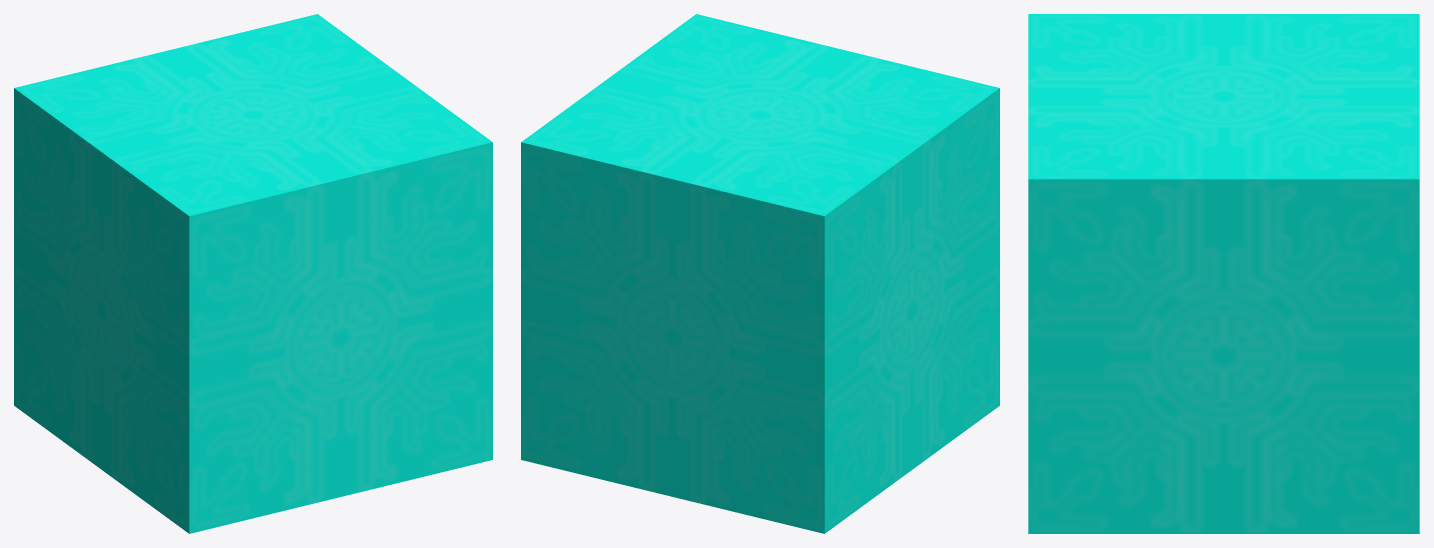
The model's file is 0_block.fbx.
The picture shows the model from 3 angles, left to right: view 1: azimuth 30°, elevation 25°; view 2: azimuth 150°, elevation 25°; view 3: azimuth 270°, elevation 25°; orthographic projection. The views are drawn at different scales.
Visible parts, largest first — view 1: mqo_mesh; view 2: mqo_mesh; view 3: mqo_mesh.
Part boxes in pixels (left/top/right/bottom): mqo_mesh: left=14, top=14, right=492, bottom=533; mqo_mesh: left=521, top=14, right=999, bottom=533; mqo_mesh: left=1028, top=14, right=1419, bottom=533.
Bounding box in the file's own units: 12.31 × 12.31 × 12.31.
